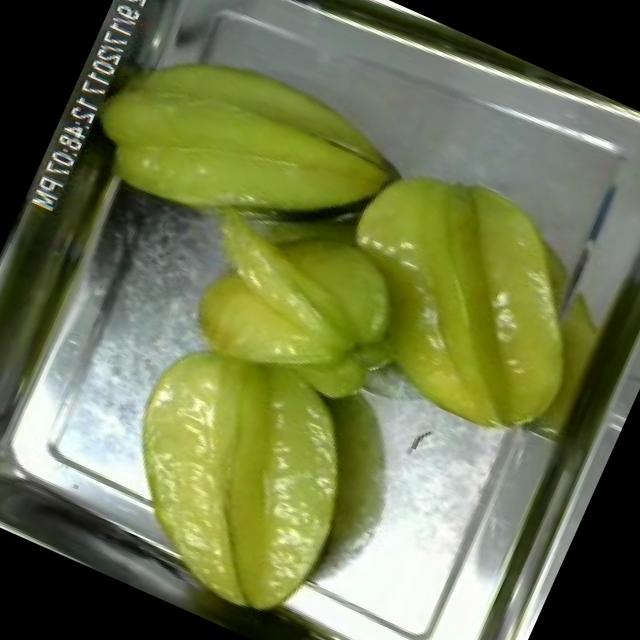fruit: (59, 211, 434, 640), (281, 123, 640, 468), (59, 0, 428, 299)
